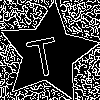T: (23, 28, 61, 79)
